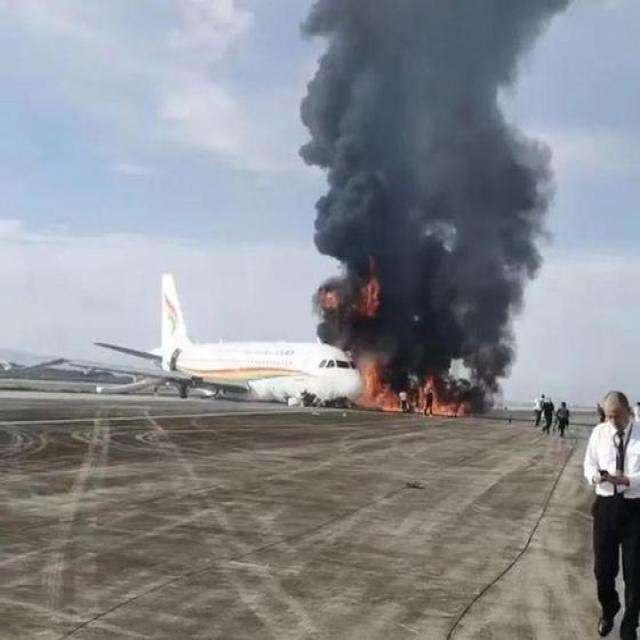Fire: (358, 360, 401, 412)
Smoke: (298, 0, 570, 343)
